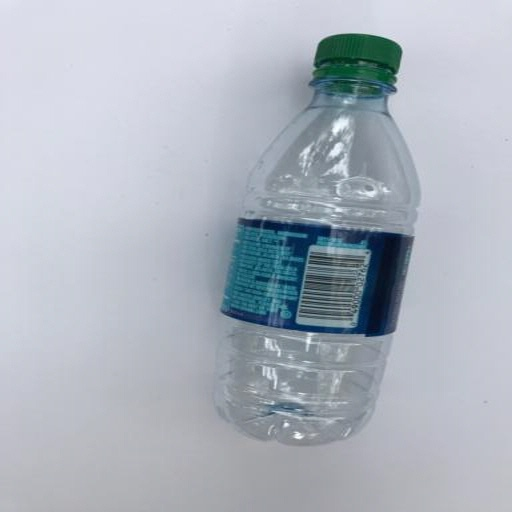Plastic_0: (219, 31, 422, 444)
